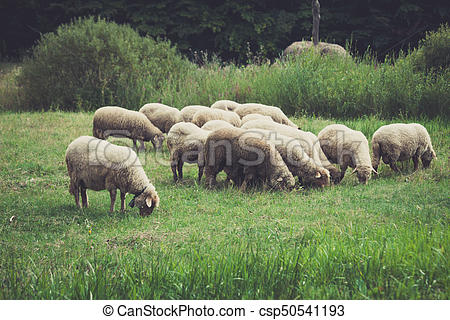sheep: (62, 133, 159, 213), (187, 127, 293, 194), (362, 119, 444, 185), (95, 106, 166, 157), (317, 121, 368, 182), (232, 98, 290, 134), (186, 102, 245, 130), (139, 106, 186, 130)
